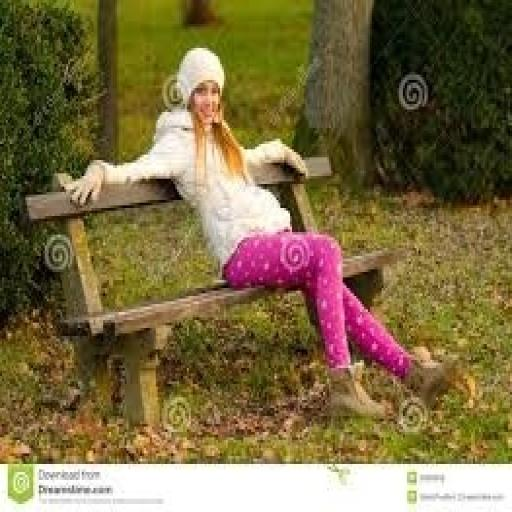sitting: (60, 43, 452, 424)
